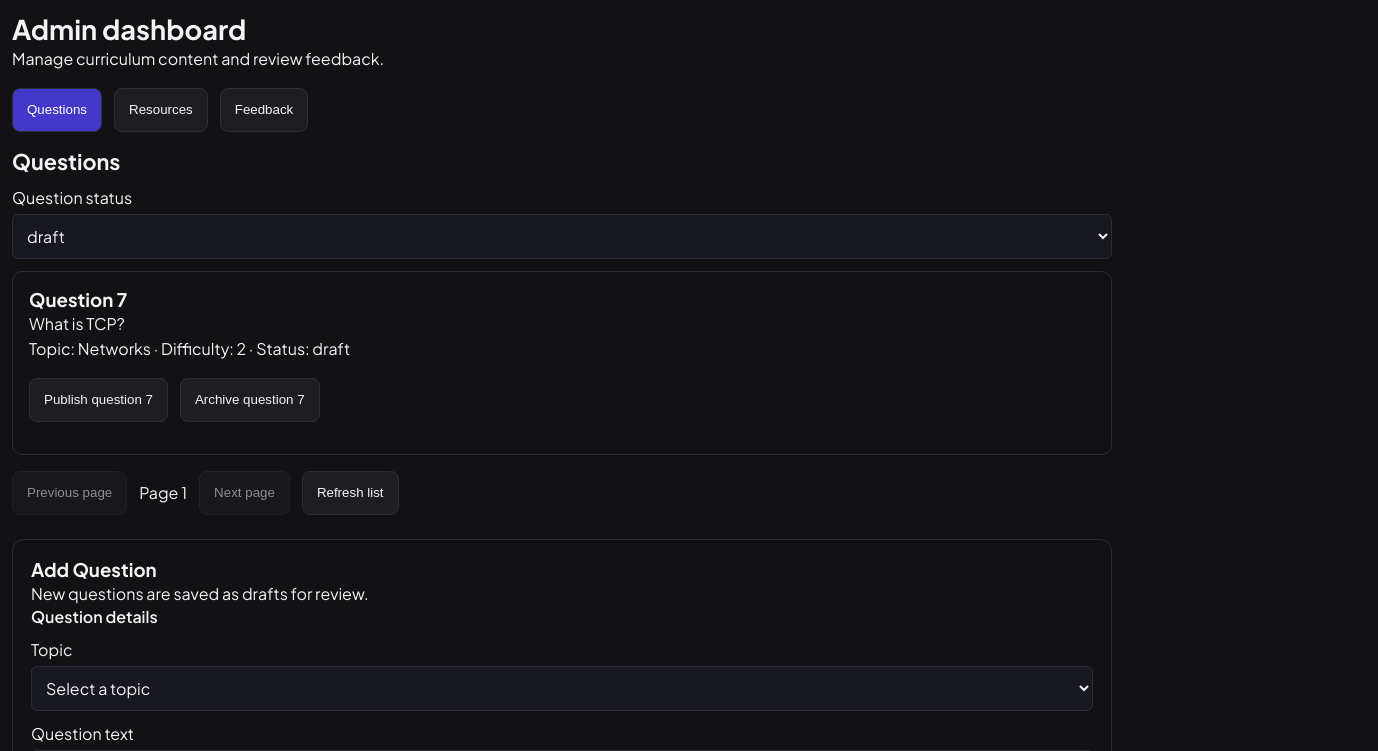
Scenario: Question moderation › sends exact Publish and Archive payloads and prevents duplicate clicks
This screenshot has width=1378, height=751.
Later steps or results of the test are not shown.
Click the button "Publish question 7": (98, 400) [29,378,168,422]
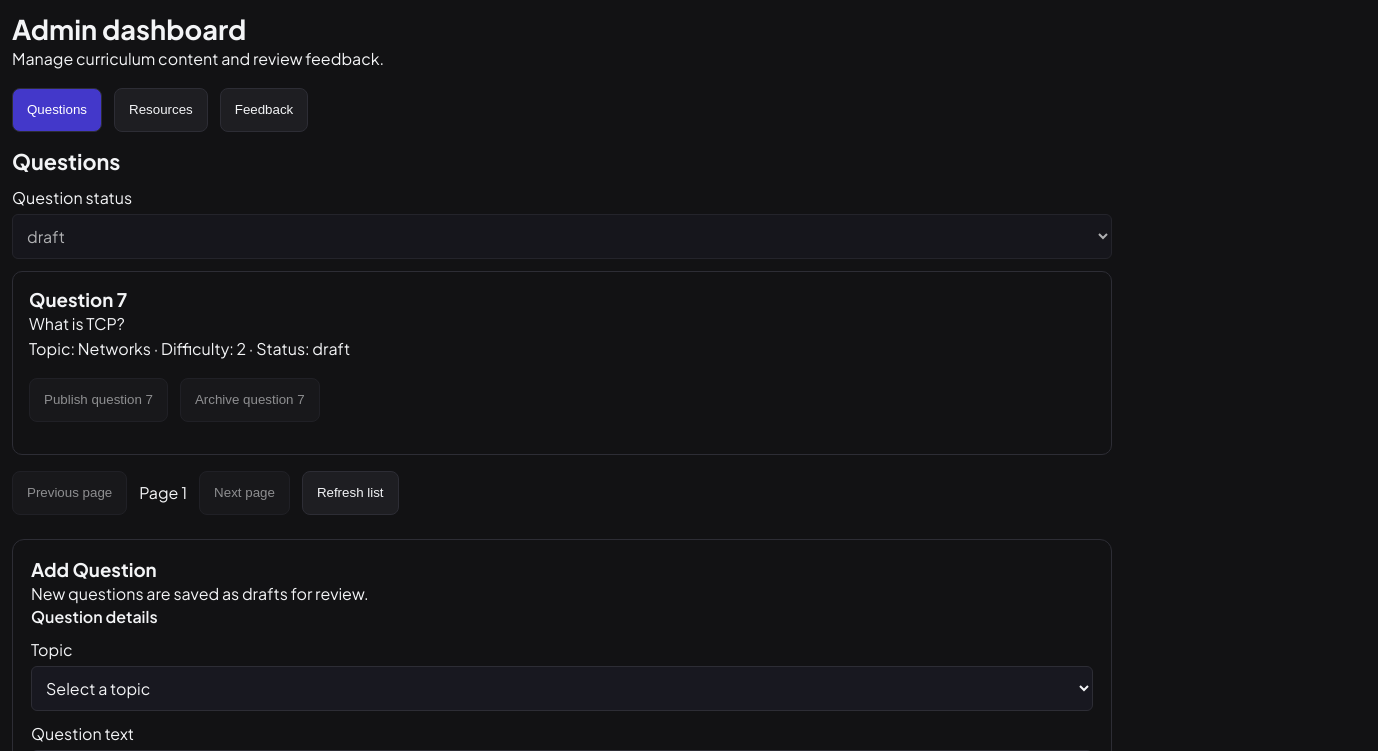
Click the button "Publish question 7": (98, 400) [29,378,168,422]
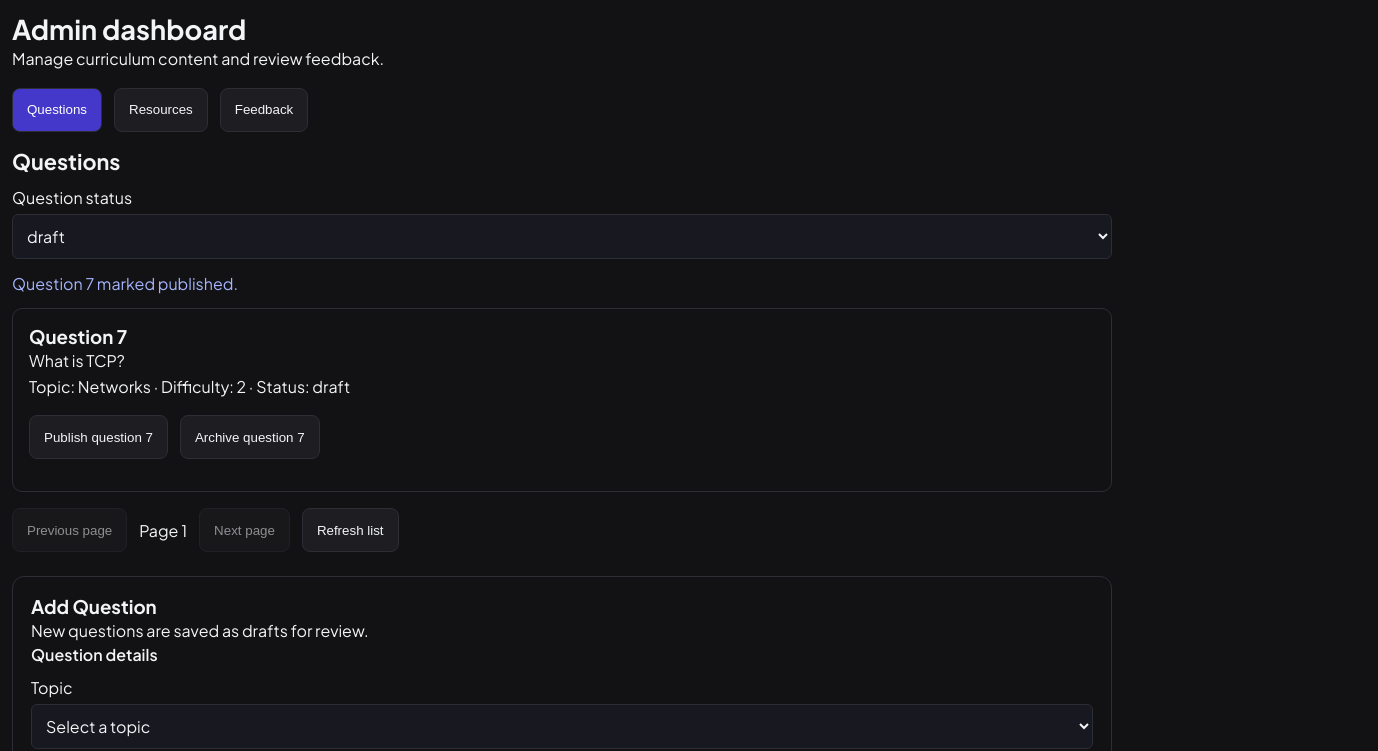
Expected: the button "Archive question 7" is enabled, [180,415,320,459]
